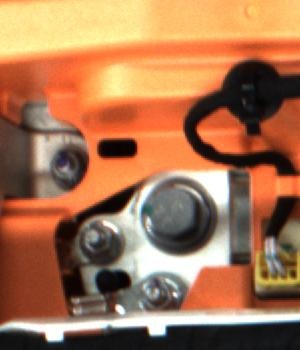nut_b: (135, 179, 221, 254)
